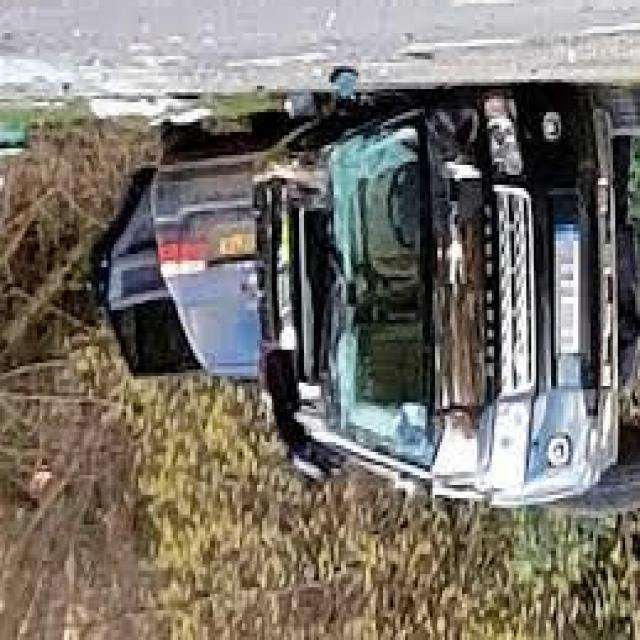severe: (257, 76, 640, 528)
